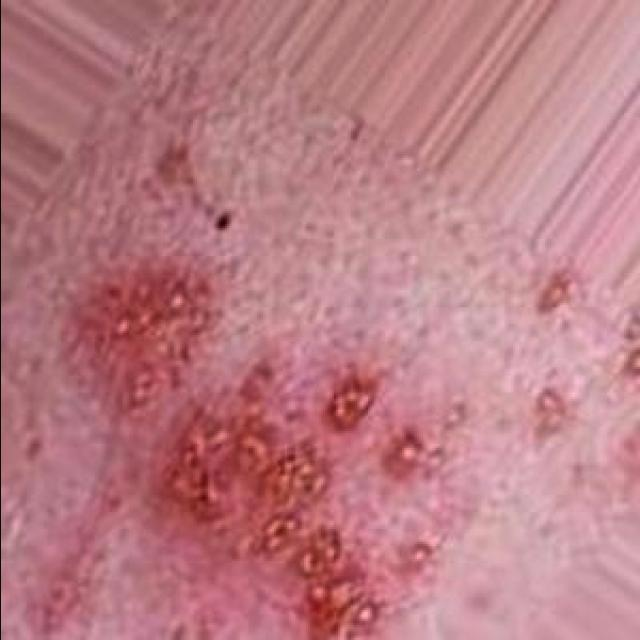Shingles: (68, 249, 436, 640)
